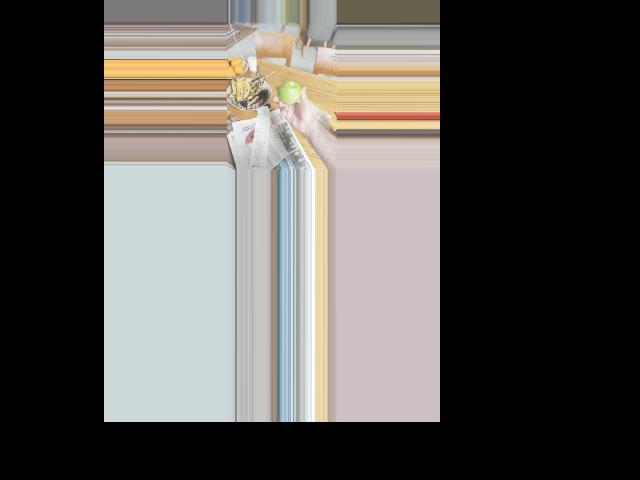apple: (278, 79, 301, 104)
